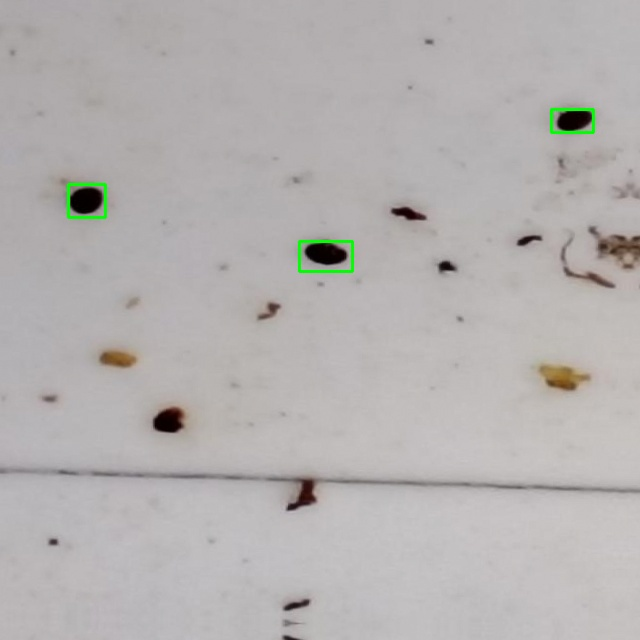varroa: (299, 241, 352, 271), (68, 184, 105, 217), (551, 109, 593, 132)
